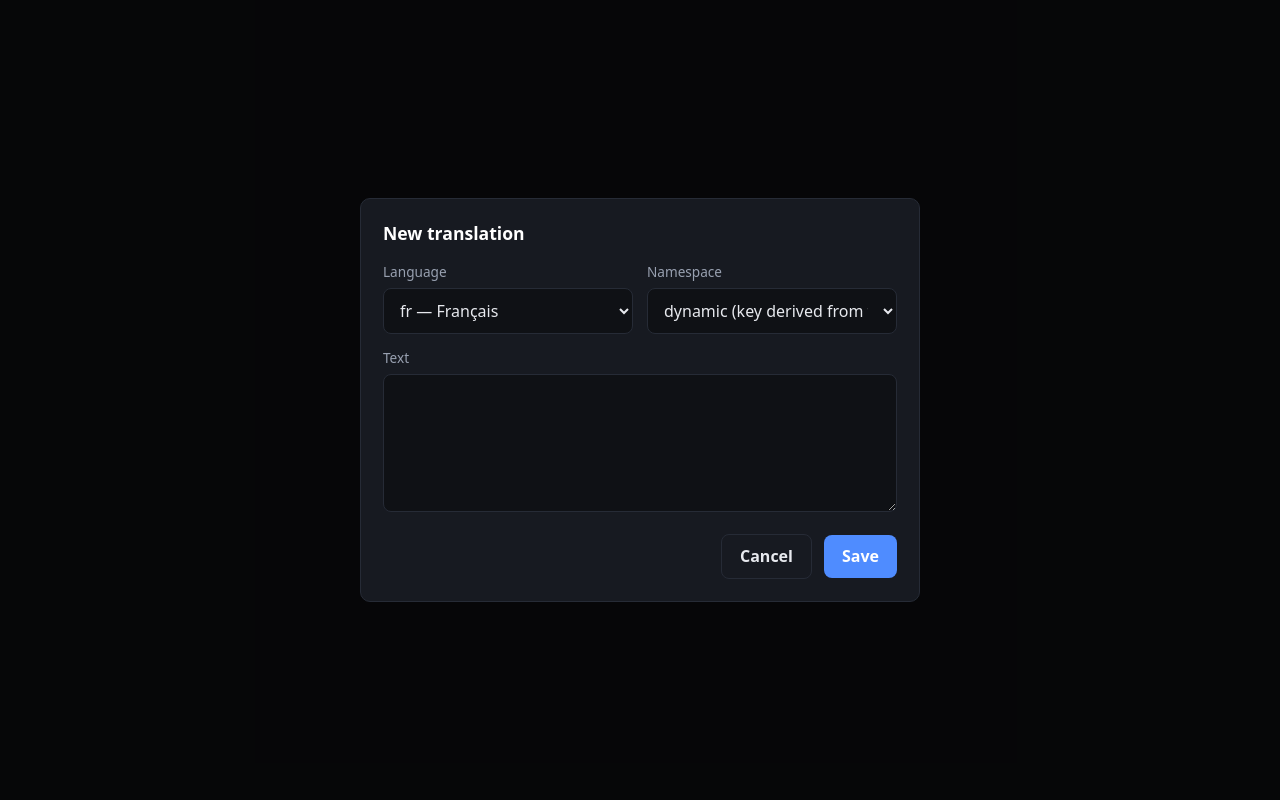
Test case: TranslationsForm › reports a validation error for an empty static key
Select "static (human-authored key)" in the dropdown labelled "Namespace". click: [772, 311]
box: 647,288 -> 897,334
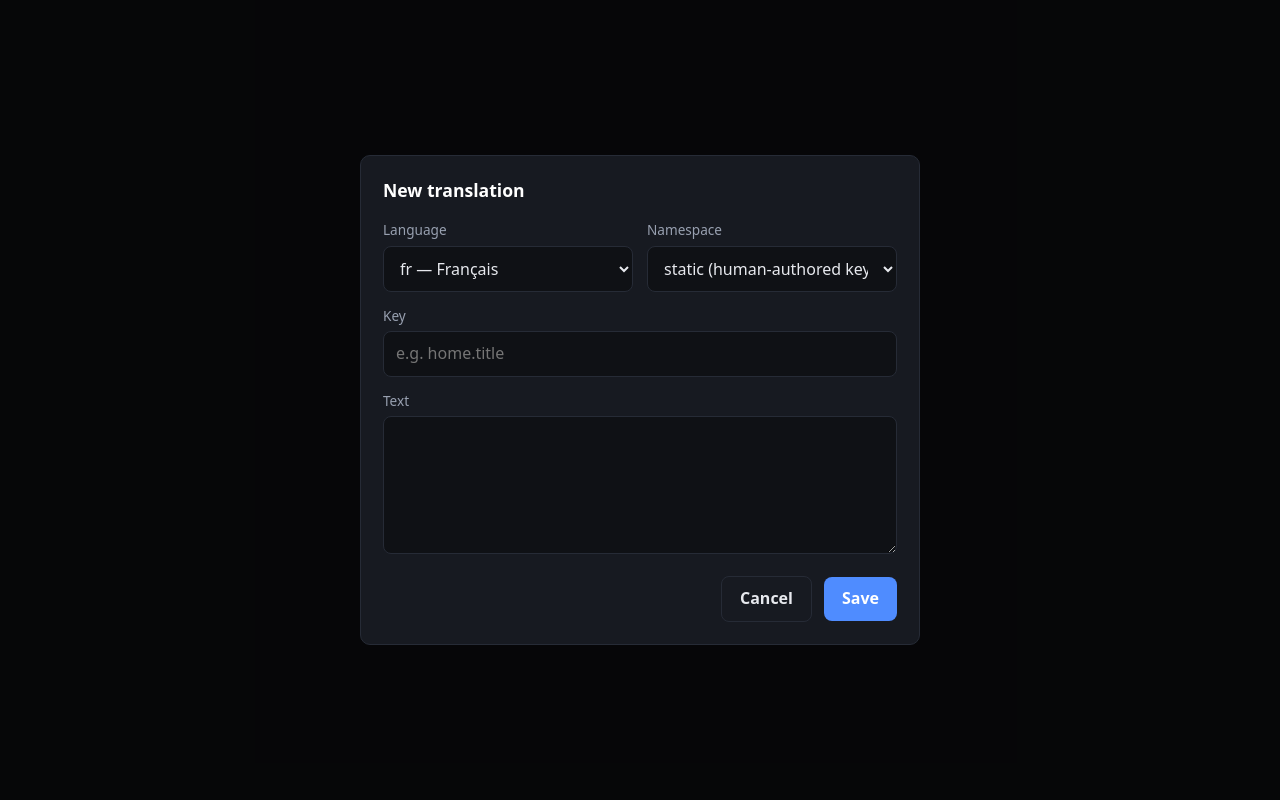
Type "Hello world" into the text box labelled "Text". click: [640, 485]
box: 383,416 -> 897,554
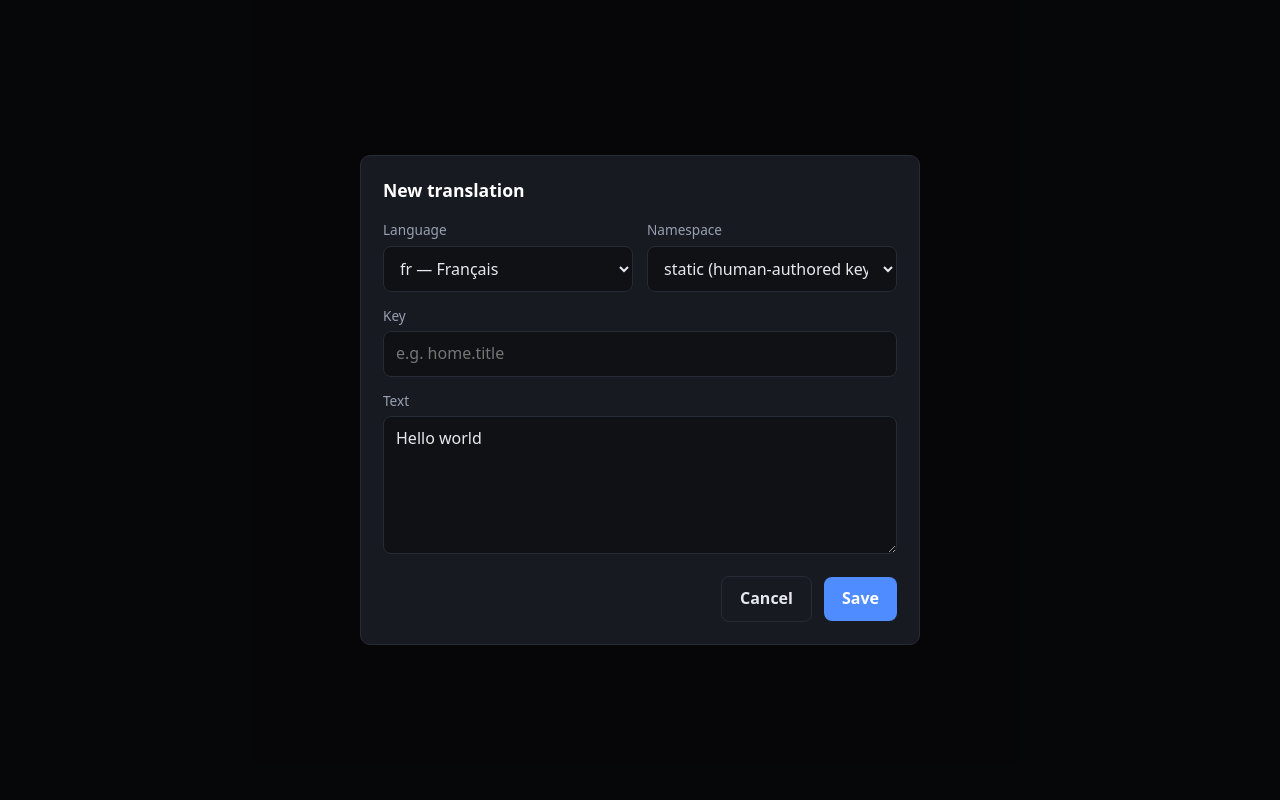
Click the button "Save". click: [860, 599]
box: 824,577 -> 897,621
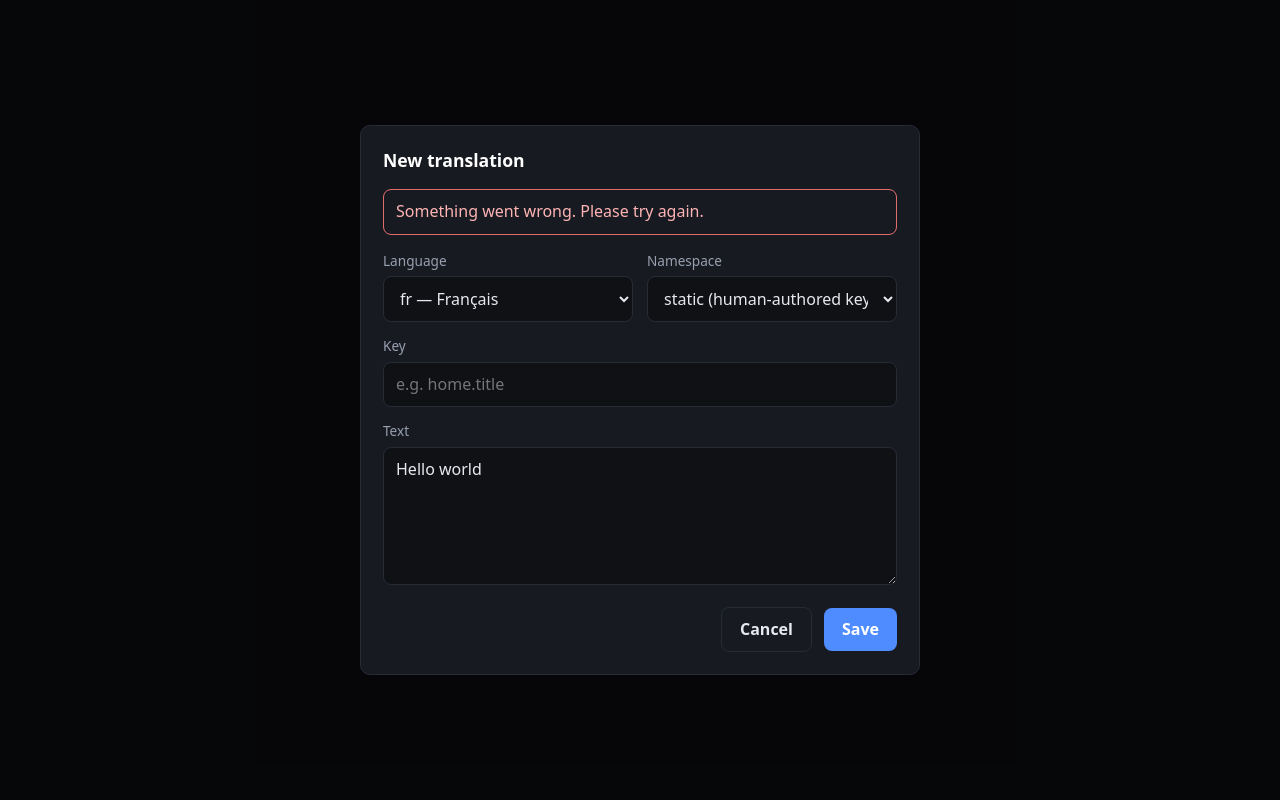
expect the message "Something went wrong. Please try again." is shown: met, box 383,189 -> 897,234
